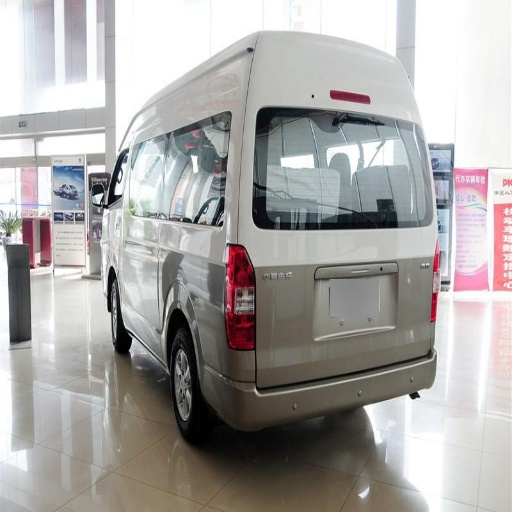back_bumper: (208, 341, 436, 428)
back_glass: (313, 117, 388, 209)
front_left_door: (124, 118, 169, 320)
trunk: (134, 224, 430, 385)
